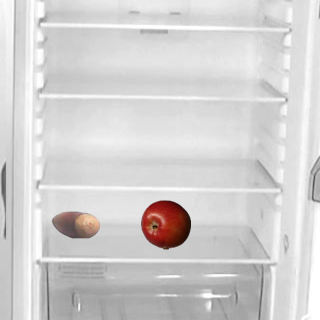Apple Braeburn: (140, 199, 190, 249)
Hazelnut: (50, 199, 100, 249)
